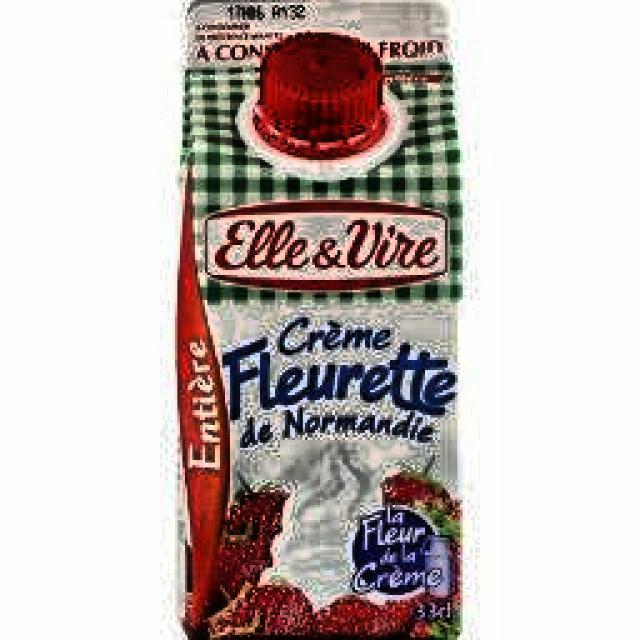cardboard: (172, 0, 466, 638)
